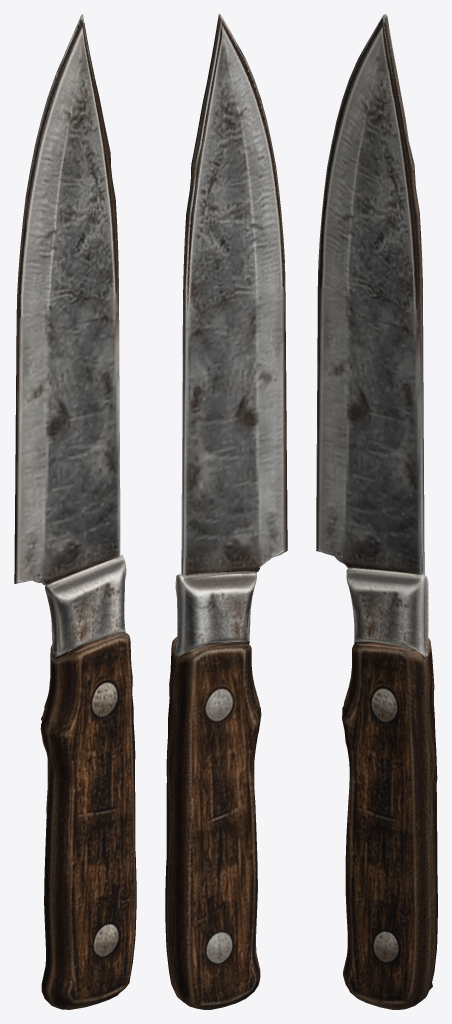
The model's file is knife_kitchen.glb.
3 renders of one model, left to right at view 1: azimuth 30°, elevation 25°; view 2: azimuth 210°, elevation 25°; view 3: azimuth 330°, elevation 25°, orthographic.
Size of the model in its own units: 0.1177 by 0.9512 by 0.0391.
1 material, 1 textured.
